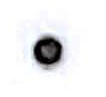cancer: (14, 19, 87, 81)
